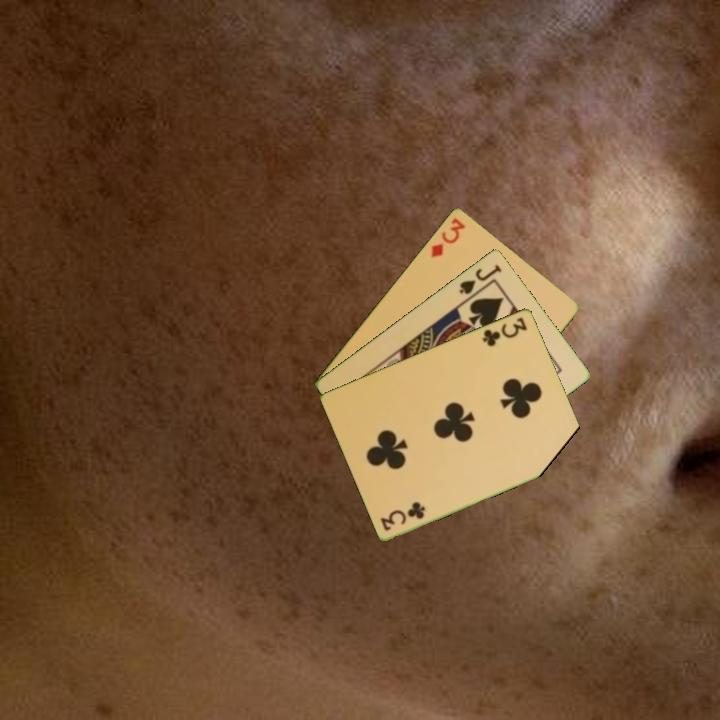3c: (479, 313, 530, 349), (377, 499, 428, 533)
3d: (427, 214, 468, 261)
Js: (455, 260, 504, 297)
